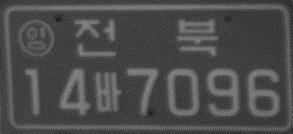0: (166, 67, 200, 116)
1: (19, 67, 50, 115)
4: (58, 67, 91, 115)
6: (246, 68, 282, 118)
7: (126, 66, 159, 116)
9: (206, 69, 240, 118)
바: (93, 71, 121, 113)
영: (18, 18, 55, 58)
전북_D: (73, 17, 219, 58)
